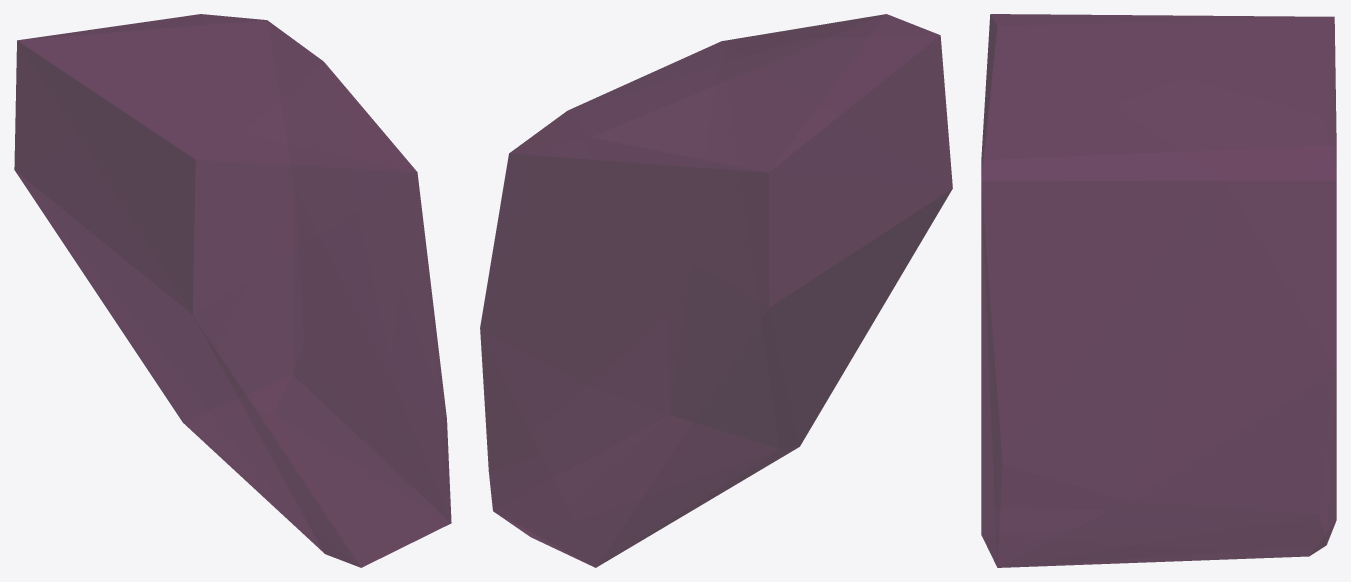
3 renders of one model, left to right at view 1: azimuth 30°, elevation 25°; view 2: azimuth 150°, elevation 25°; view 3: azimuth 270°, elevation 25°, orthographic. The views are drawn at different scales.
Parts seen in each view (by area): view 1: Shape_IndexedFaceSet.009_Shape_IndexedFaceSet.17693; view 2: Shape_IndexedFaceSet.009_Shape_IndexedFaceSet.17693; view 3: Shape_IndexedFaceSet.009_Shape_IndexedFaceSet.17693.
Part boxes in pixels (box(x1,y1,x2,y2)): Shape_IndexedFaceSet.009_Shape_IndexedFaceSet.17693: box(14, 14, 451, 567); Shape_IndexedFaceSet.009_Shape_IndexedFaceSet.17693: box(480, 14, 952, 567); Shape_IndexedFaceSet.009_Shape_IndexedFaceSet.17693: box(981, 14, 1336, 567).
Size of the model in its own units: 0.0522 by 0.0809 by 0.0574.
